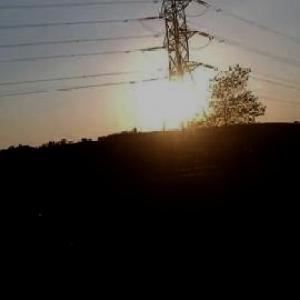follow: (1, 173, 87, 299)
